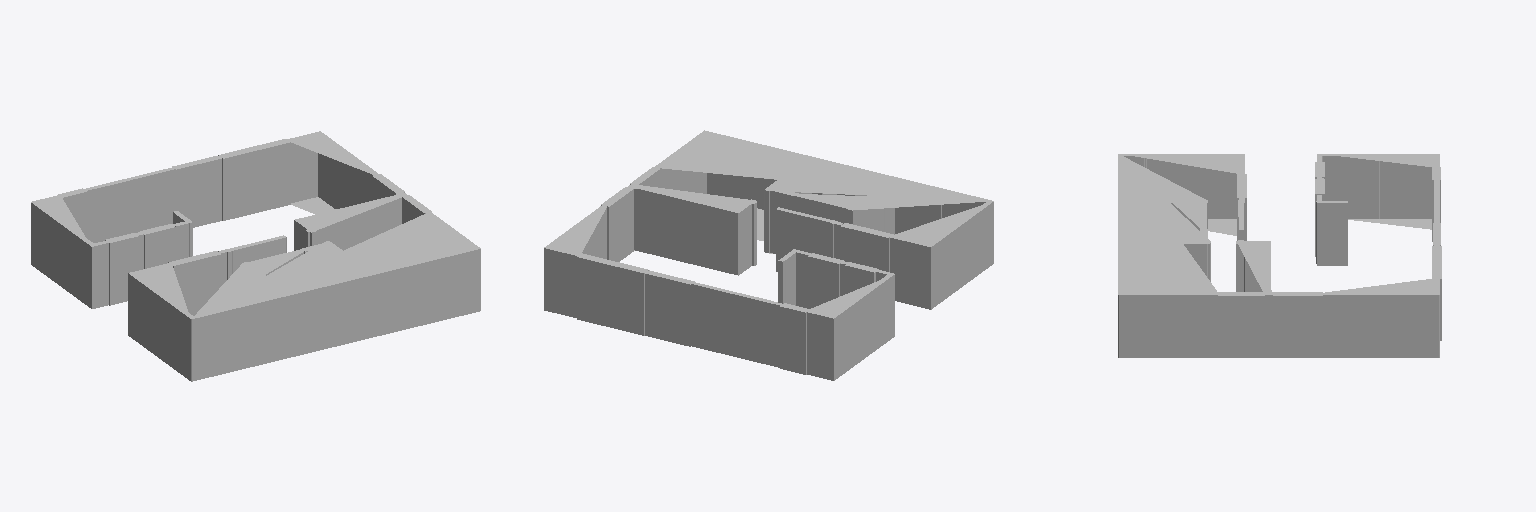
File: full_housebuild - Copy.obj
3 views of the same model, side by side, from view 1: azimuth 30°, elevation 25°; view 2: azimuth 150°, elevation 25°; view 3: azimuth 270°, elevation 25° (orthographic).
Parts seen in each view (by area): view 1: SimpleWall_9, SimpleWall_5, SimpleWall_3, SimpleWall_2, WallWithWindow_7, SimpleWall_8, WallWithWindow_8, WallWithWindow_6, WallWithWindow_1, SimpleWall_7, WallWithWindow_5, SimpleWall_6 (+2 smaller); view 2: SimpleWall_9, SimpleWall_8, SimpleWall_5, SimpleWall_2, WallWithWindow_7, SimpleWall_3, WallWithWindow_8, SimpleWall_7, WallWithWindow_6, WallWithWindow_4, WallWithWindow_3, SimpleWall_6 (+3 smaller); view 3: SimpleWall_9, SimpleWall_3, SimpleWall_5, WallWithWindow_4, WallWithWindow_2, SimpleWall_8, SimpleWall_6.
Part boxes in pixels (left/top/right/bottom): SimpleWall_9: left=128, top=212, right=480, bottom=381; SimpleWall_5: left=31, top=195, right=108, bottom=308; SimpleWall_3: left=287, top=131, right=377, bottom=214; SimpleWall_2: left=83, top=167, right=175, bottom=242; WallWithWindow_7: left=218, top=139, right=289, bottom=220; SimpleWall_8: left=294, top=192, right=406, bottom=250; WallWithWindow_8: left=172, top=156, right=221, bottom=227; WallWithWindow_6: left=168, top=251, right=221, bottom=315; WallWithWindow_1: left=105, top=233, right=139, bottom=305; SimpleWall_7: left=218, top=235, right=286, bottom=284; WallWithWindow_5: left=140, top=224, right=175, bottom=268; SimpleWall_6: left=173, top=211, right=192, bottom=259; SimpleWall_9: left=655, top=130, right=993, bottom=309; SimpleWall_8: left=628, top=184, right=756, bottom=275; SimpleWall_5: left=806, top=270, right=894, bottom=380; SimpleWall_2: left=690, top=282, right=783, bottom=367; WallWithWindow_7: left=577, top=253, right=648, bottom=335; SimpleWall_3: left=544, top=205, right=606, bottom=317; WallWithWindow_8: left=645, top=270, right=694, bottom=346; SimpleWall_7: left=776, top=207, right=842, bottom=271; WallWithWindow_6: left=840, top=223, right=893, bottom=271; WallWithWindow_4: left=601, top=187, right=633, bottom=261; WallWithWindow_3: left=780, top=303, right=808, bottom=374; SimpleWall_6: left=778, top=249, right=811, bottom=308; SimpleWall_9: left=1118, top=154, right=1244, bottom=357; SimpleWall_3: left=1322, top=278, right=1439, bottom=357; SimpleWall_5: left=1317, top=154, right=1439, bottom=229; WallWithWindow_4: left=1273, top=292, right=1322, bottom=357; WallWithWindow_2: left=1218, top=292, right=1264, bottom=357; SimpleWall_8: left=1236, top=240, right=1272, bottom=357; SimpleWall_6: left=1316, top=195, right=1347, bottom=265.
Size of the model in its own units: 978 by 200 by 939.